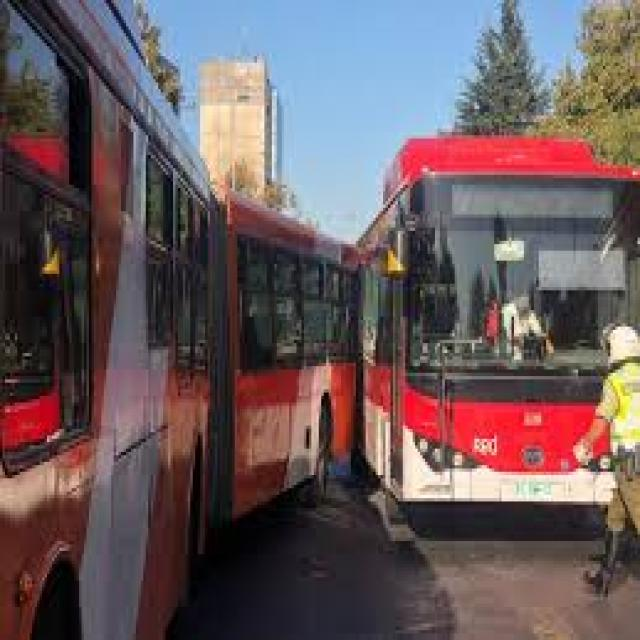AB: (2, 3, 364, 637)
